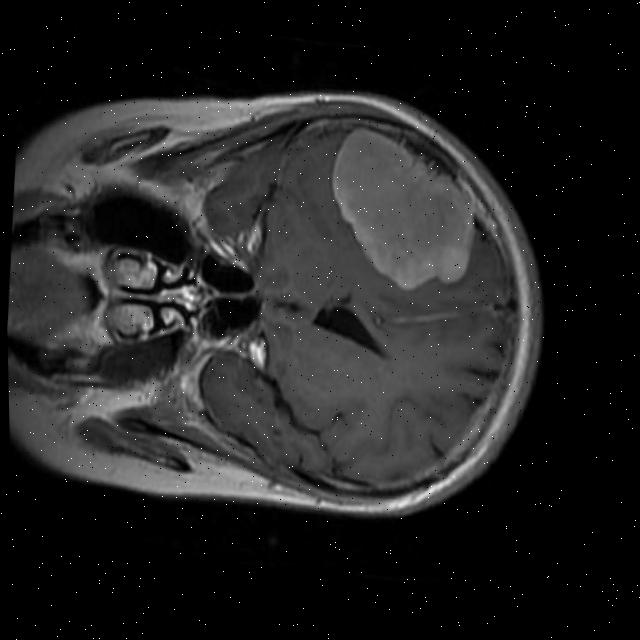Meningioma: (319, 119, 487, 301)
